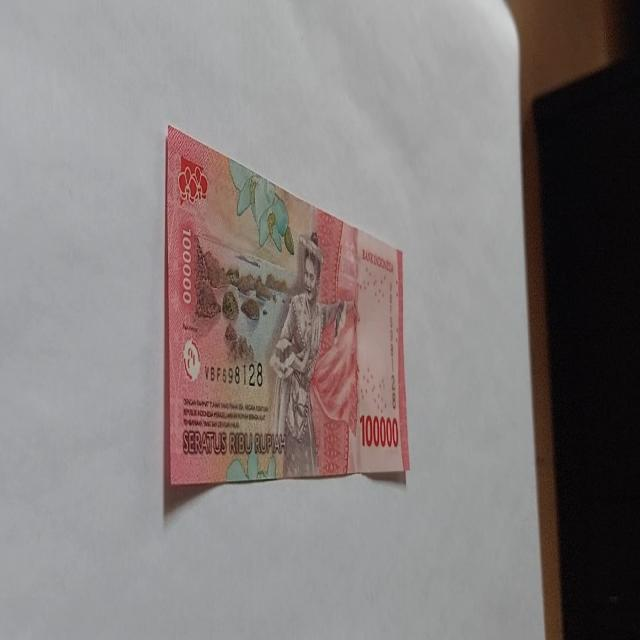seratus ribu rupiah: (164, 124, 410, 492), (268, 231, 358, 478)
